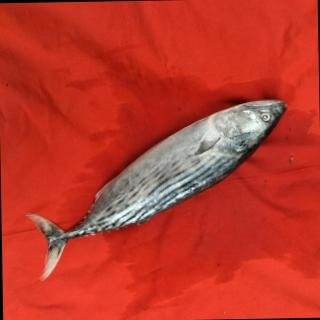Ikan: (19, 93, 292, 290)
